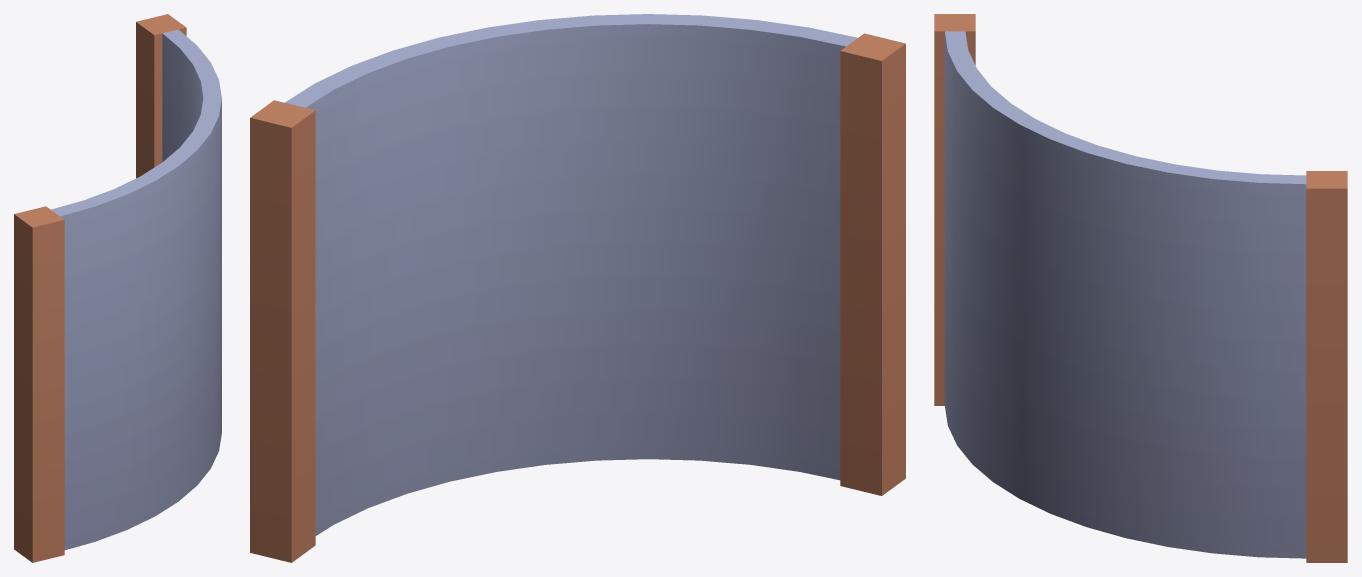
File: wall-curved.glb
The picture shows the model from 3 angles, left to right: view 1: azimuth 30°, elevation 25°; view 2: azimuth 150°, elevation 25°; view 3: azimuth 270°, elevation 25°; orthographic projection. The views are drawn at different scales.
Parts seen in each view (by area): view 1: wall-curved; view 2: wall-curved; view 3: wall-curved.
Part boxes in pixels (bbox=[...]): wall-curved: bbox=[14, 14, 221, 562]; wall-curved: bbox=[250, 14, 905, 562]; wall-curved: bbox=[934, 14, 1347, 562].
Size of the model in its own units: 1 by 1 by 1.
1 material, 1 textured.
